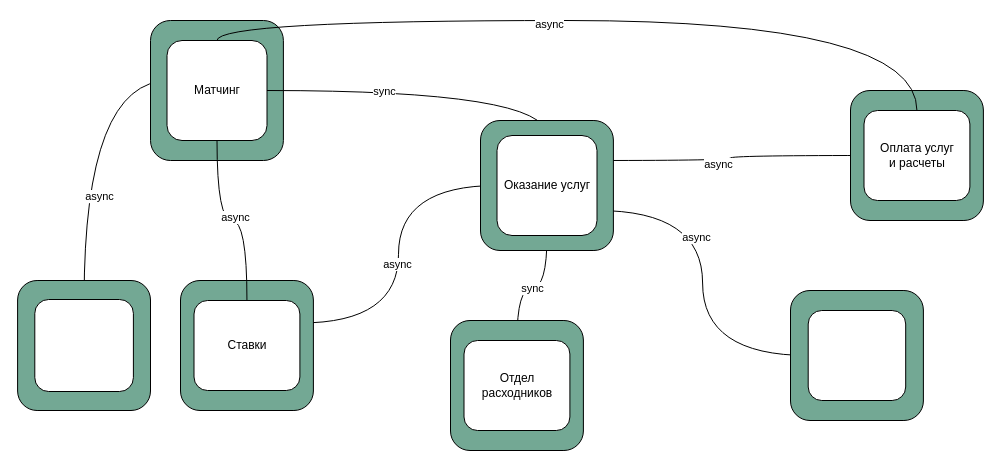
Image size: 1001x468. Some labels were removed from this diagram. The shapes that lost their labels are listed below. From the top down, each one's centre as x and y in pixels, then its label:
pixel 83 345: Тестирование и определение характеристик
pixel 856 355: Контроль качества
